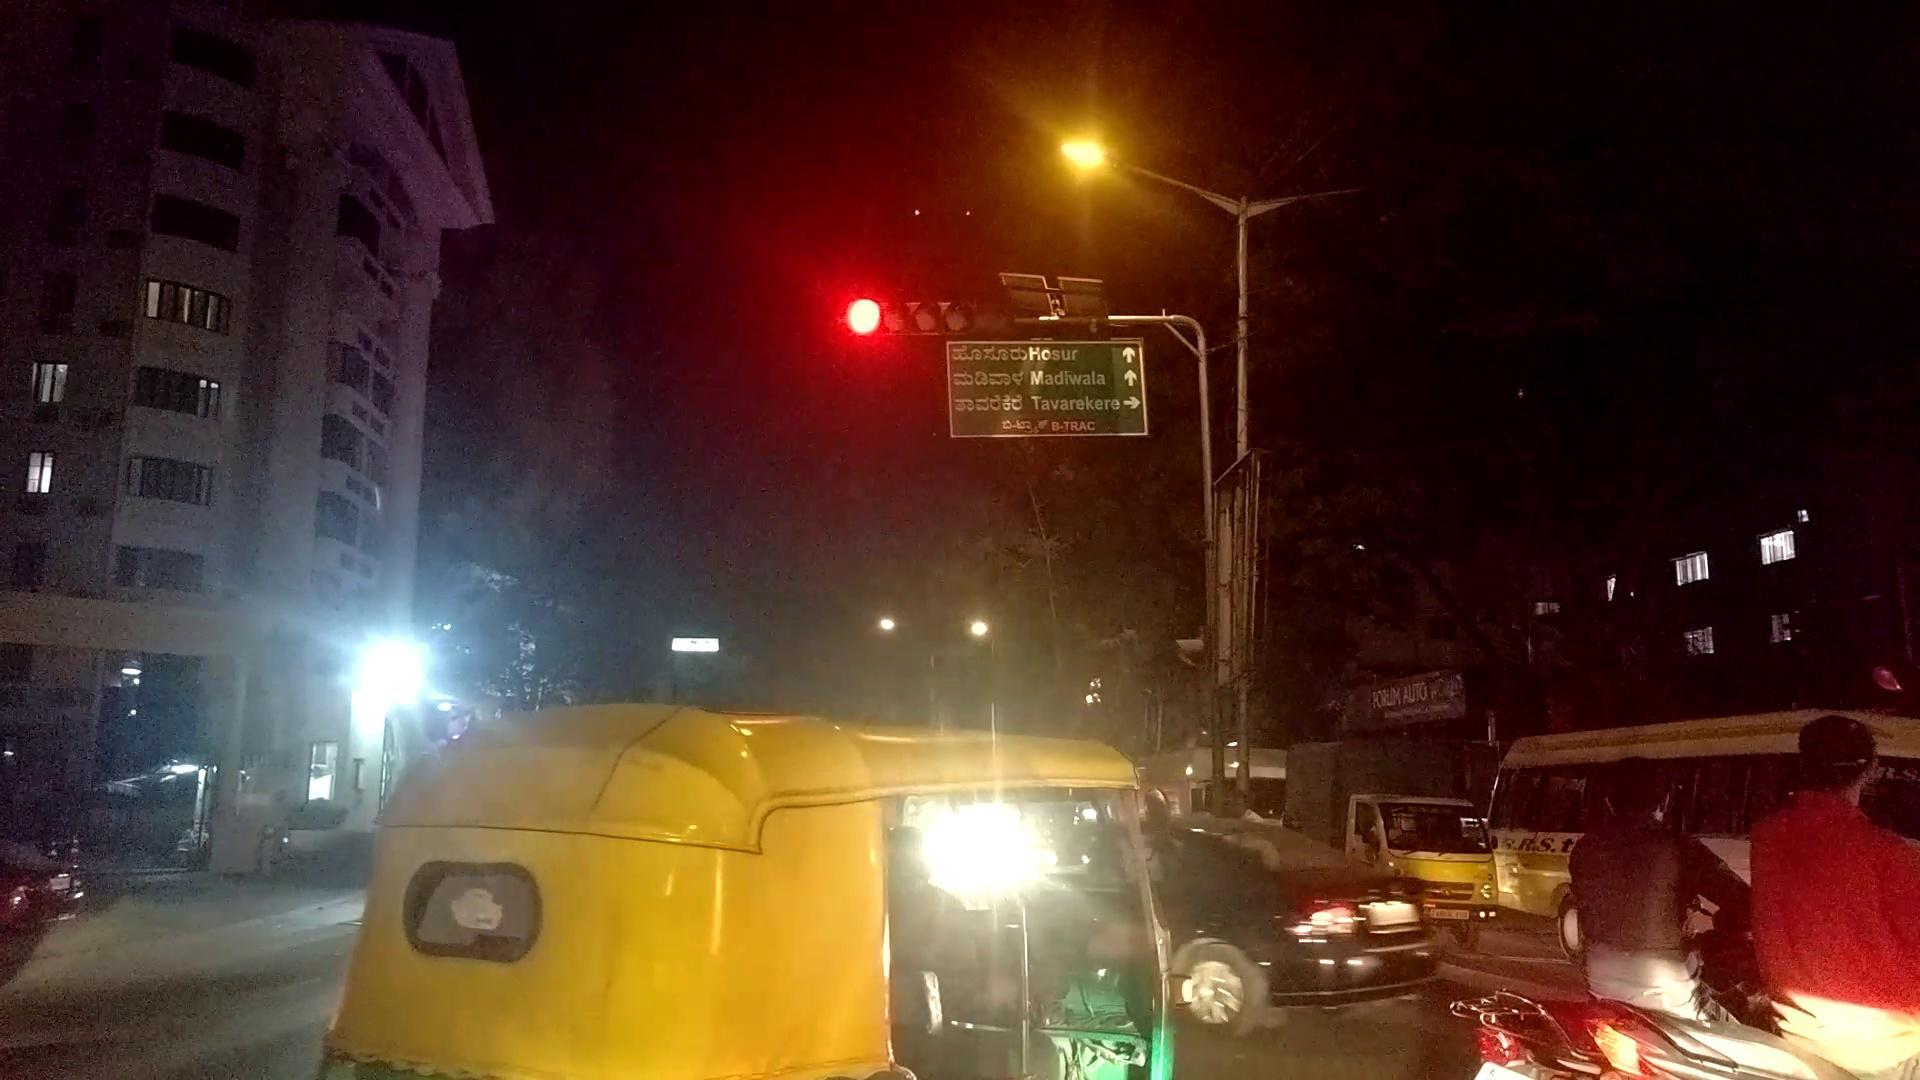on: (901, 0, 1271, 371)
